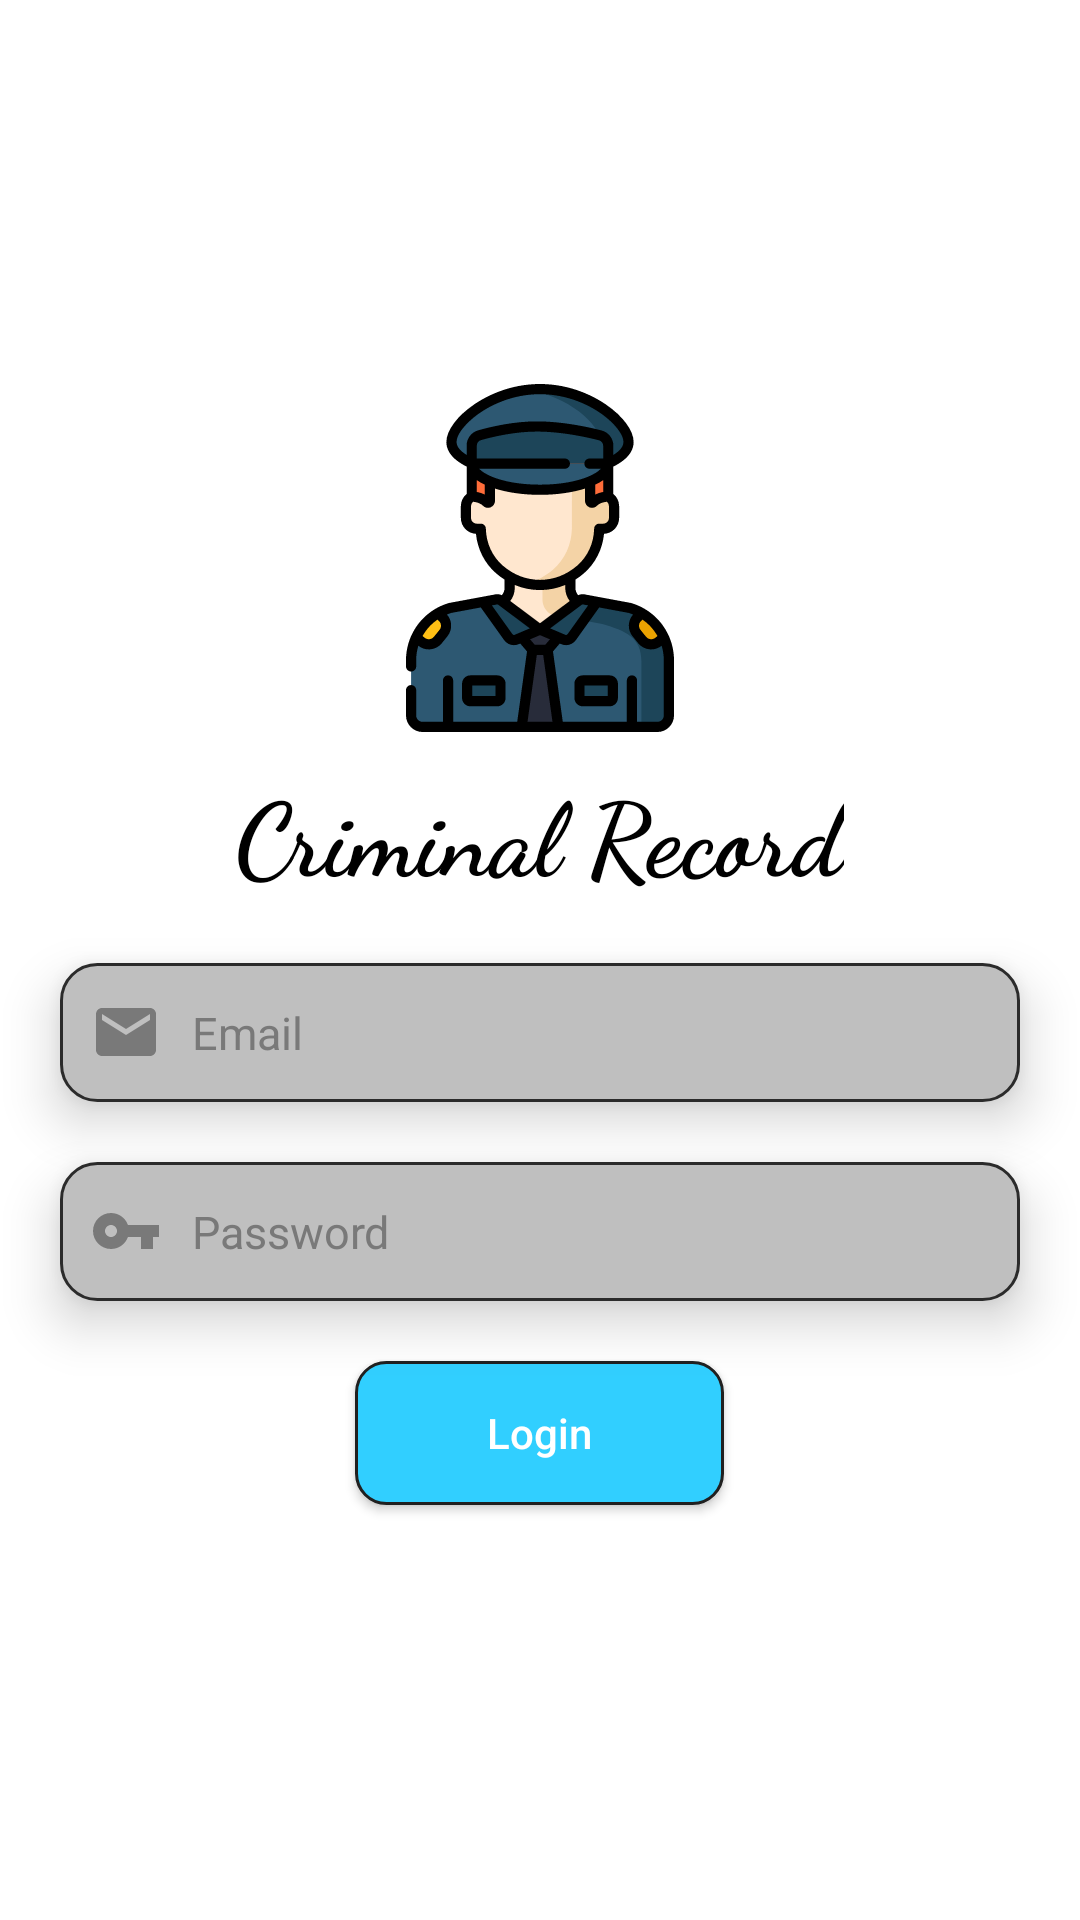

Where to tap for icons on this 1080w x 1920h app screen, as (x=x, y=y):
policeman: (x=540, y=558)
